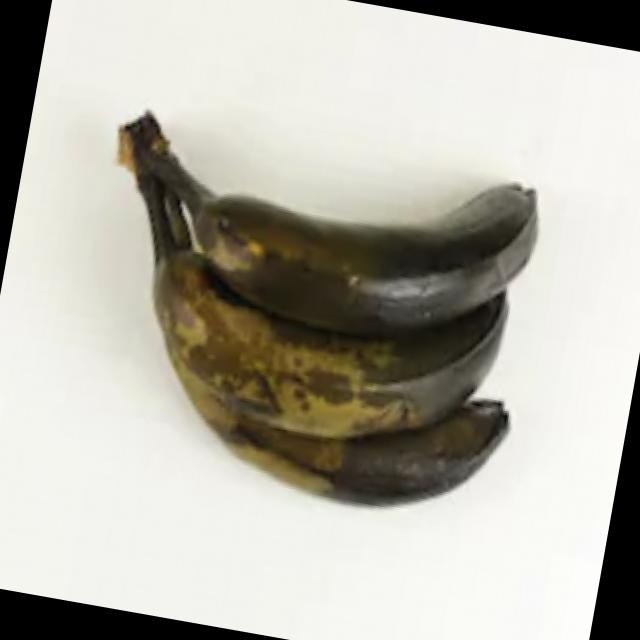rotten-banana: (107, 109, 566, 354), (123, 228, 510, 444), (147, 338, 540, 534)
